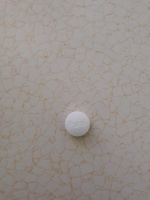Parol: (64, 110, 91, 137)
